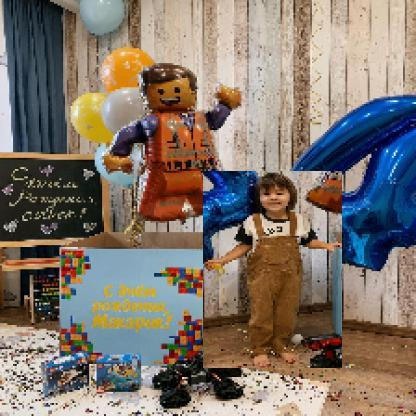child: (204, 172, 344, 370)
